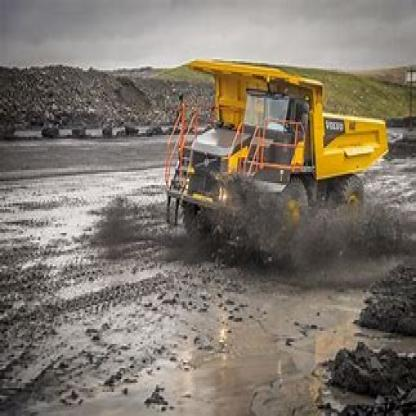dump_truck: (157, 50, 389, 253)
